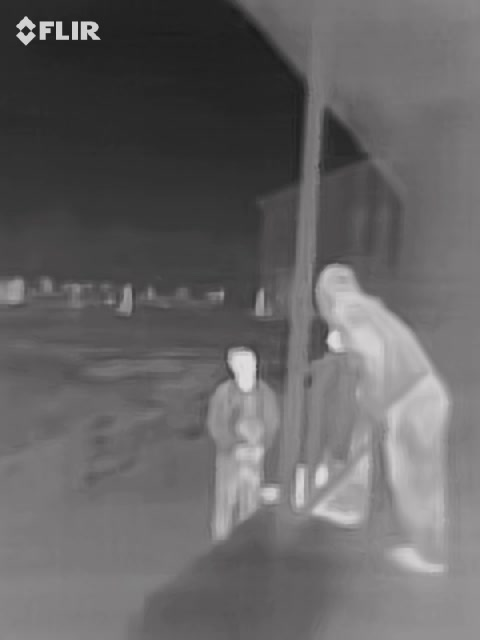head: (317, 265, 364, 322)
